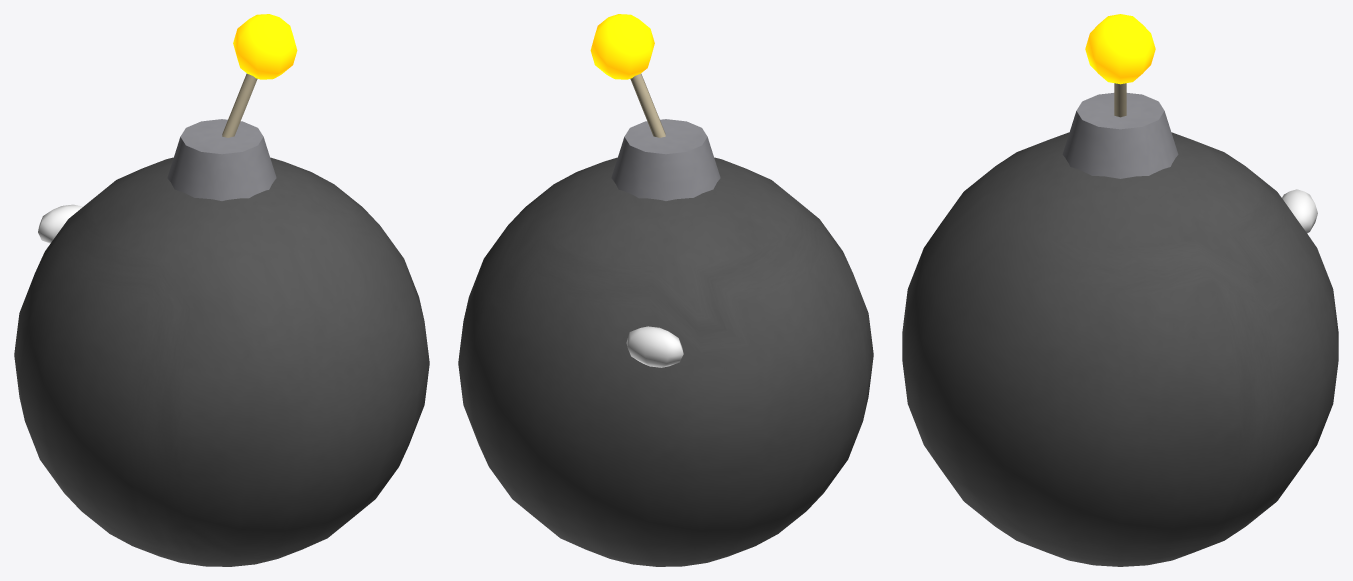
File: bomb.glb
3 views of the same model, side by side, from view 1: azimuth 30°, elevation 25°; view 2: azimuth 150°, elevation 25°; view 3: azimuth 270°, elevation 25° (orthographic). The views are drawn at different scales.
Parts seen in each view (by area): view 1: bomb_body, Fuse; view 2: bomb_body, Fuse; view 3: bomb_body, Fuse.
Boxes of the visible parts, box(x1,y1,x2,y2) form: bomb_body: box(14, 73, 429, 566); Fuse: box(233, 14, 297, 79); bomb_body: box(458, 73, 873, 566); Fuse: box(590, 14, 654, 79); bomb_body: box(902, 83, 1338, 566); Fuse: box(1085, 14, 1155, 84).
Bounding box in the file's own units: 0.5 × 0.69 × 0.4949.
Materials: 5 (3 with a texture image).
